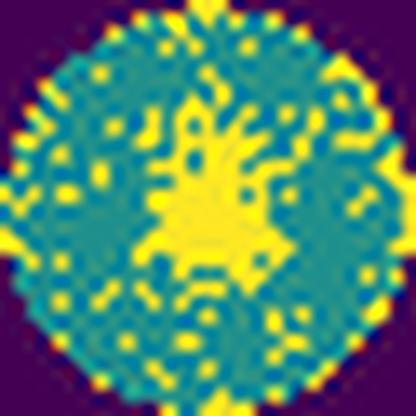Center: (131, 94, 326, 296)
